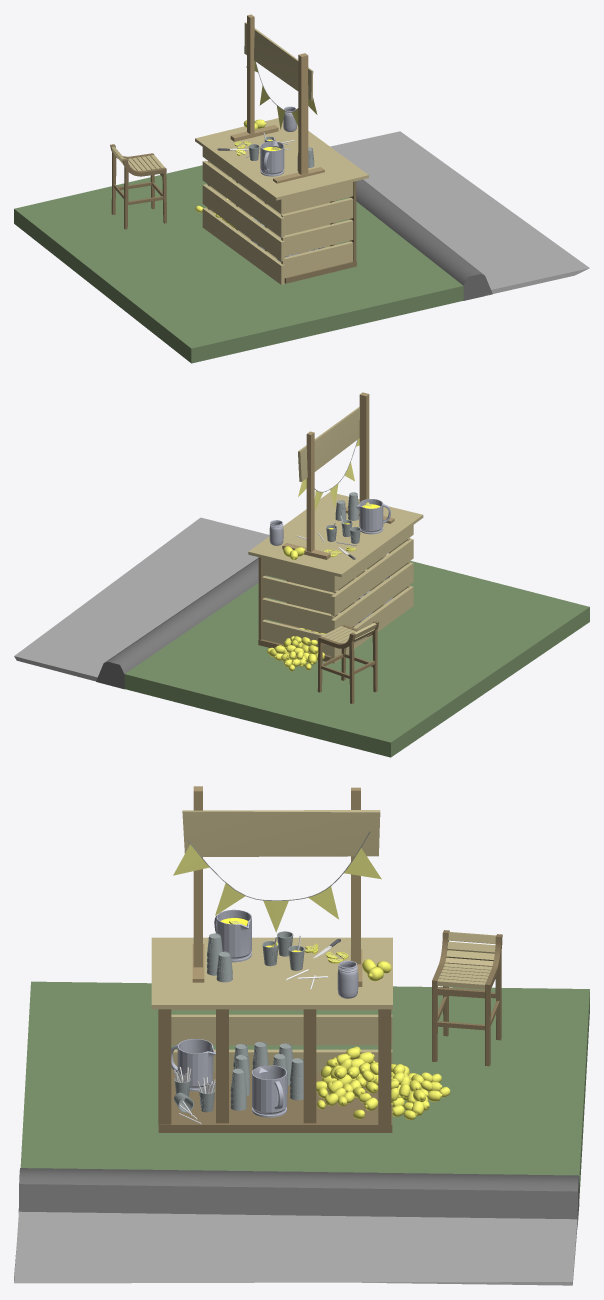
3 views of the same model, one above another, from view 1: azimuth 30°, elevation 25°; view 2: azimuth 150°, elevation 25°; view 3: azimuth 270°, elevation 25° (orthographic). The views are drawn at different scales.
Parts seen in each view (by area): view 1: polySurface119, polySurface121, BoisStand_ArriereAll, BoisStand_DroitAll, BoisStand_Haut, polySurface120, polySurface287, BoisPanneau_Droit, BoisPanneau_Gauche, polySurface133, BoisStand_Bas; view 2: polySurface119, polySurface121, BoisStand_ArriereAll, BoisStand_Haut, BoisStand_GaucheAll, polySurface120, polySurface287, Citrons_Dessous, BoisPanneau_Droit, BoisPanneau_Gauche, polySurface133; view 3: polySurface119, polySurface121, polySurface120, BoisStand_Haut, polySurface287, BoisStand_ArriereAll, BoisStand_Bas, Citrons_Dessous, Pichet_Sous_03, Pichet_Sous_02, BoisStand_MilieuDevant4, BoisStand_MilieuDevant1 (+7 smaller).
Boxes of the visible parts, box(x1,y1,x2,y2) form: polySurface119: box(14, 165, 463, 363); polySurface121: box(330, 131, 589, 295); BoisStand_ArriereAll: box(202, 147, 284, 284); BoisStand_DroitAll: box(281, 182, 353, 277); BoisStand_Haut: box(195, 118, 368, 200); polySurface120: box(356, 179, 492, 300); polySurface287: box(244, 22, 313, 100); BoisPanneau_Droit: box(298, 53, 308, 174); BoisPanneau_Gauche: box(247, 14, 254, 138); polySurface133: box(260, 141, 284, 176); BoisStand_Bas: box(235, 228, 356, 283); polySurface119: box(124, 560, 589, 757); polySurface121: box(14, 517, 269, 681); BoisStand_ArriereAll: box(331, 525, 413, 663); BoisStand_Haut: box(248, 492, 423, 577); BoisStand_GaucheAll: box(262, 558, 334, 655); polySurface120: box(96, 558, 267, 689); polySurface287: box(298, 407, 359, 481); Citrons_Dessous: box(267, 628, 325, 671); BoisPanneau_Droit: box(359, 392, 369, 502); BoisPanneau_Gauche: box(306, 431, 314, 551); polySurface133: box(356, 499, 383, 534); polySurface119: box(20, 981, 589, 1198); polySurface121: box(14, 1211, 577, 1285); polySurface120: box(18, 1168, 579, 1227); BoisStand_Haut: box(151, 937, 392, 1009); polySurface287: box(182, 810, 380, 856); BoisStand_ArriereAll: box(171, 1009, 392, 1073); BoisStand_Bas: box(158, 1073, 392, 1132); Citrons_Dessous: box(316, 1046, 450, 1119); Pichet_Sous_03: box(252, 1065, 287, 1117); Pichet_Sous_02: box(171, 1039, 215, 1091); BoisStand_MilieuDevant4: box(378, 1009, 391, 1125); BoisStand_MilieuDevant1: box(158, 1009, 171, 1124).
Bounding box in the file's own units: 4.07 × 2.24 × 3.47.
